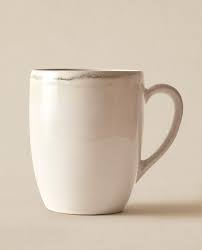mug: (17, 52, 195, 244)
